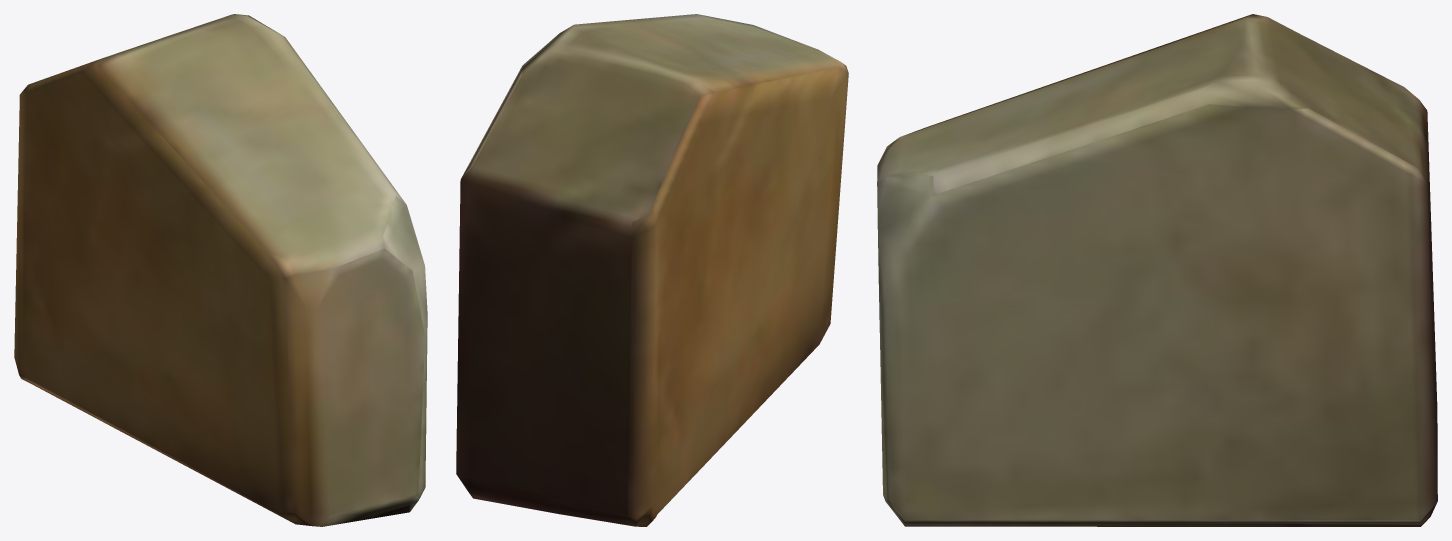
The model's file is RockPack007.fbx.
The picture shows the model from 3 angles, left to right: view 1: azimuth 30°, elevation 25°; view 2: azimuth 150°, elevation 25°; view 3: azimuth 270°, elevation 25°; orthographic projection. The views are drawn at different scales.
Parts seen in each view (by area): view 1: RockPack007; view 2: RockPack007; view 3: RockPack007.
Part boxes in pixels (<box>): RockPack007: <box>14,14,427,526</box>; RockPack007: <box>456,14,848,526</box>; RockPack007: <box>877,14,1437,526</box>.
Bounding box in the file's own units: 75.24 × 154 × 178.
Materials: 1 (1 with a texture image).
